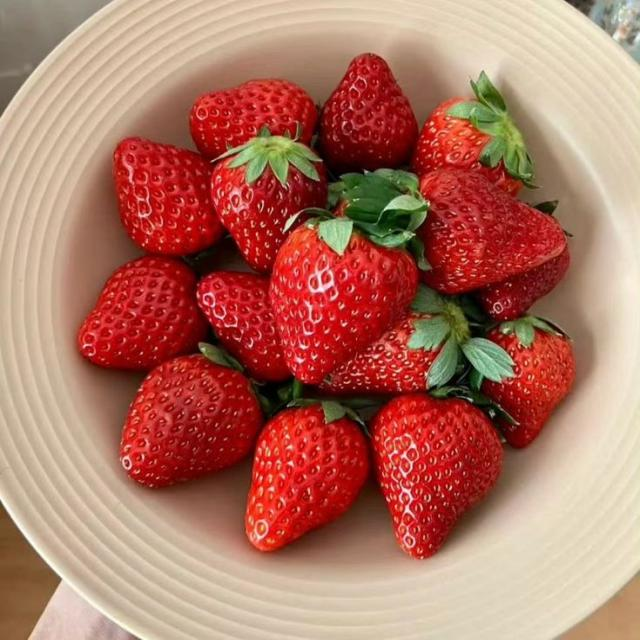strawberry: (270, 205, 417, 383), (371, 394, 502, 558), (321, 286, 512, 394), (121, 346, 263, 486), (418, 170, 566, 294), (246, 405, 370, 551), (211, 129, 327, 272), (78, 256, 208, 371), (412, 72, 533, 195), (114, 138, 223, 255), (481, 317, 575, 447), (319, 54, 417, 173), (197, 272, 290, 381), (190, 79, 317, 158), (320, 312, 440, 395), (477, 245, 570, 320)
